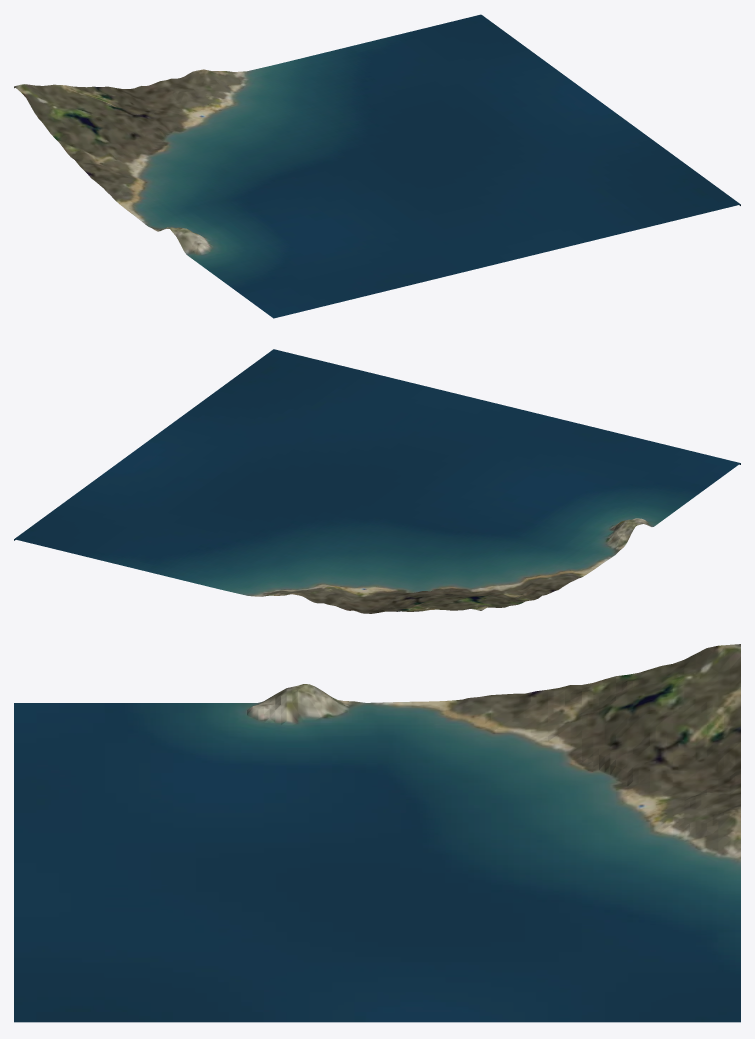
The picture shows the model from 3 angles, top to bottom: view 1: azimuth 30°, elevation 25°; view 2: azimuth 150°, elevation 25°; view 3: azimuth 270°, elevation 25°; orthographic projection. The views are drawn at different scales.
Bounding box in the file's own units: 250 × 22.53 × 241.
1 material, 1 textured.
